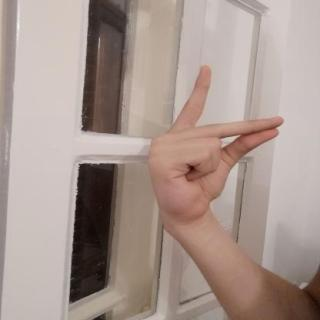TAA: (137, 57, 290, 228)
